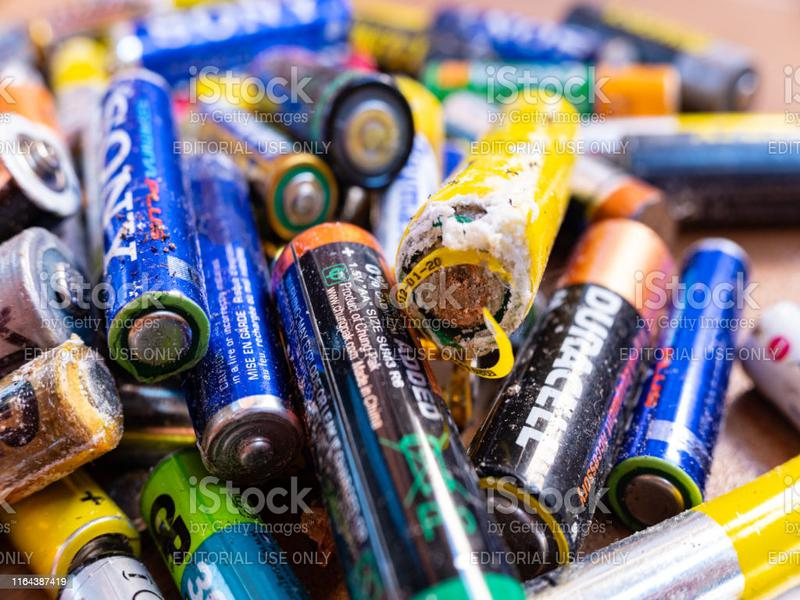battery: (258, 211, 540, 600), (459, 206, 684, 576), (596, 234, 762, 537), (90, 63, 224, 391)
